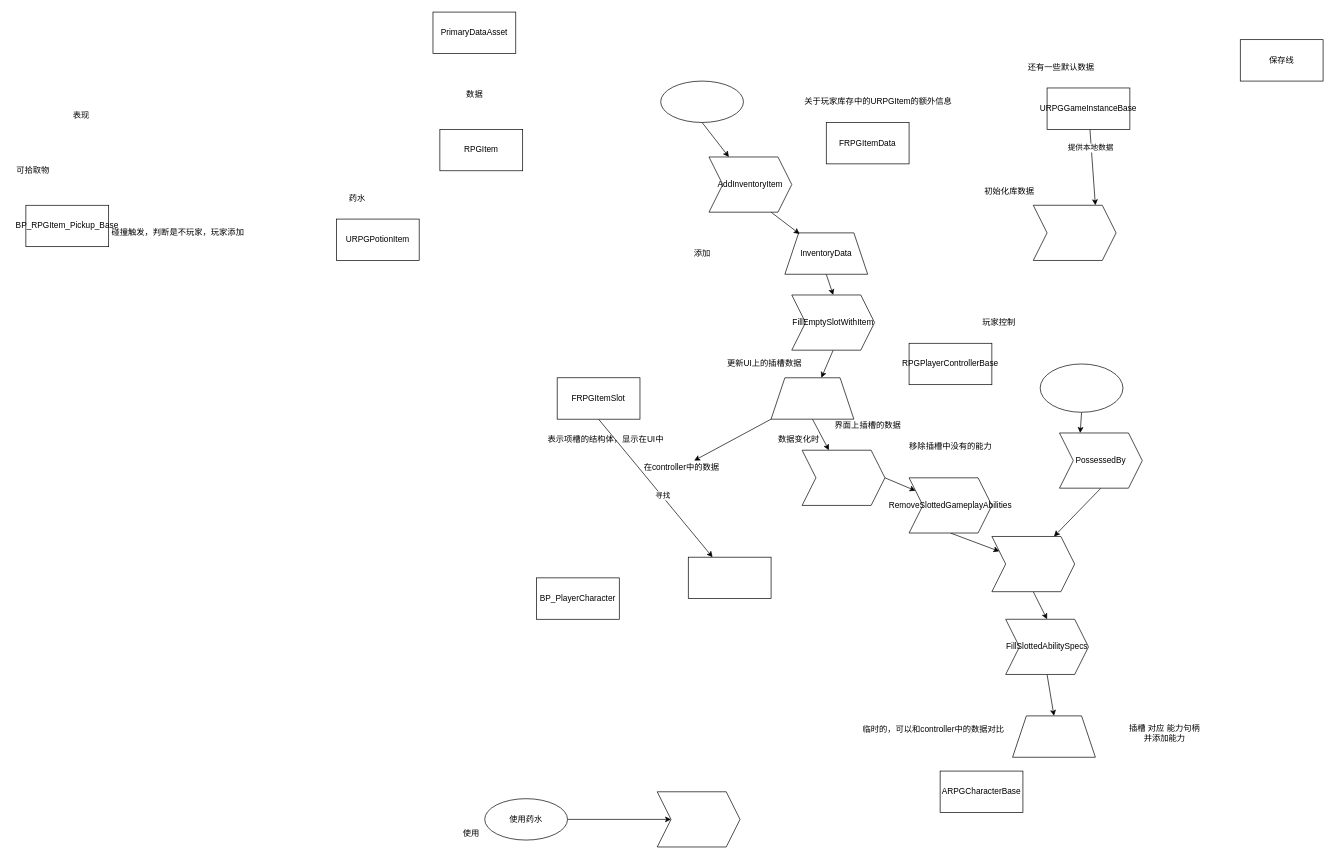
The diagram is 1335 pixels wide and 859 high, and some of its shapes have lost their labels. The shapes that lost their labels are listed below. From the top down, each one's box as (x1, y1, x2, y2) in pixels, then its label:
(660, 80, 743, 122): 拾取物体
(1033, 205, 1116, 260): LoadInventory
(770, 377, 854, 419): SlottedItems
(1039, 363, 1123, 412): 玩家控制器控制角色actor
(801, 450, 885, 505): OnItemSlotChanged
(688, 556, 771, 599): FGameplayAbilitySpecHandle
(991, 536, 1075, 592): AddSlottedGameplayAbilities
(1012, 715, 1095, 757): SlottedAbilities
(657, 791, 740, 847): ActivateAbilitiesWithItemSlot
